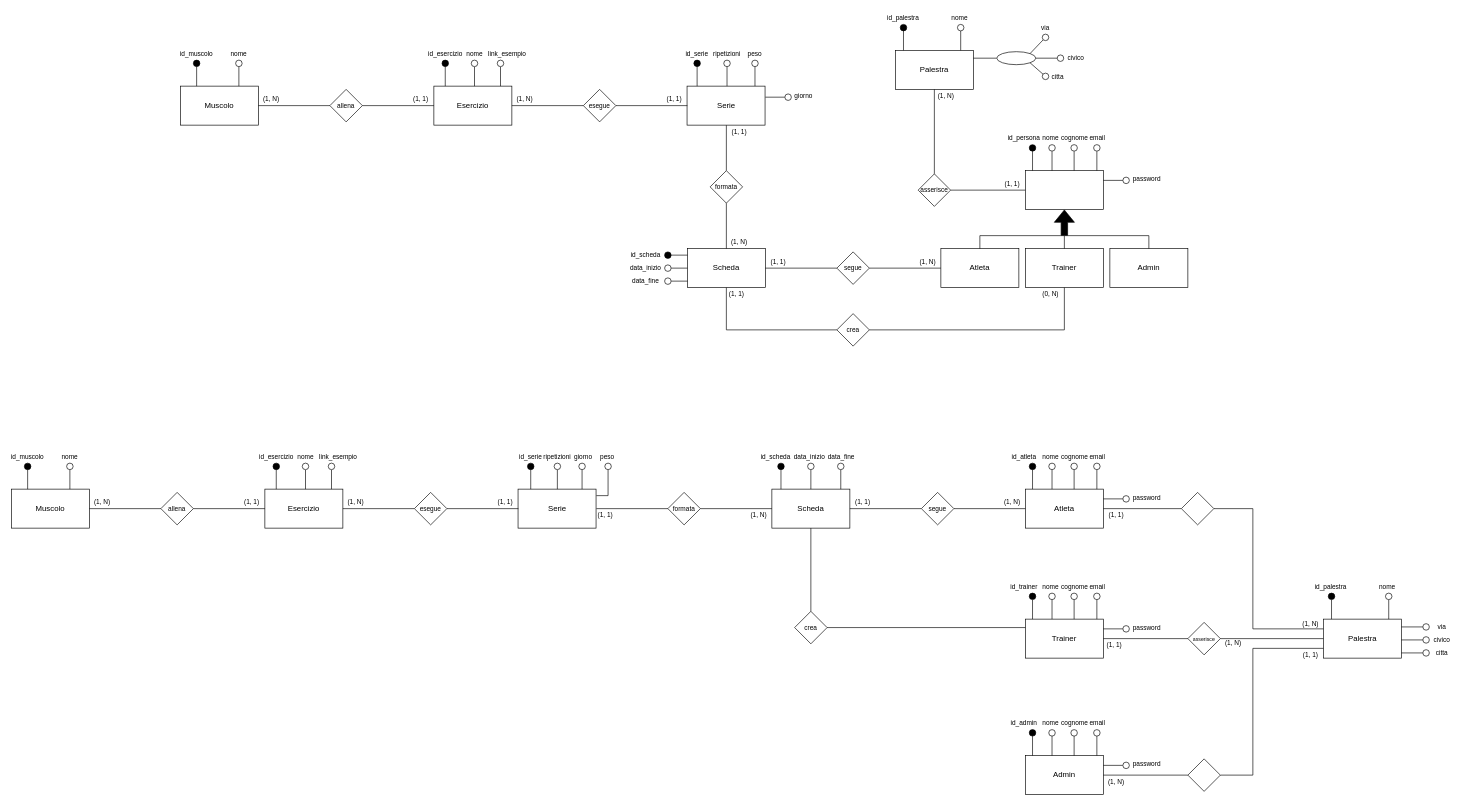
Some shapes in this 1466 by 806 pixel diagram are drawn without their labels. Each missing label, with the centre of its shape:
"asserisce1" belongs at pixel 1197 508.
"asserisce2" belongs at pixel 1203 774.
"indirizzo" belongs at pixel 1016 58.
"Persona" belongs at pixel 1064 190.
